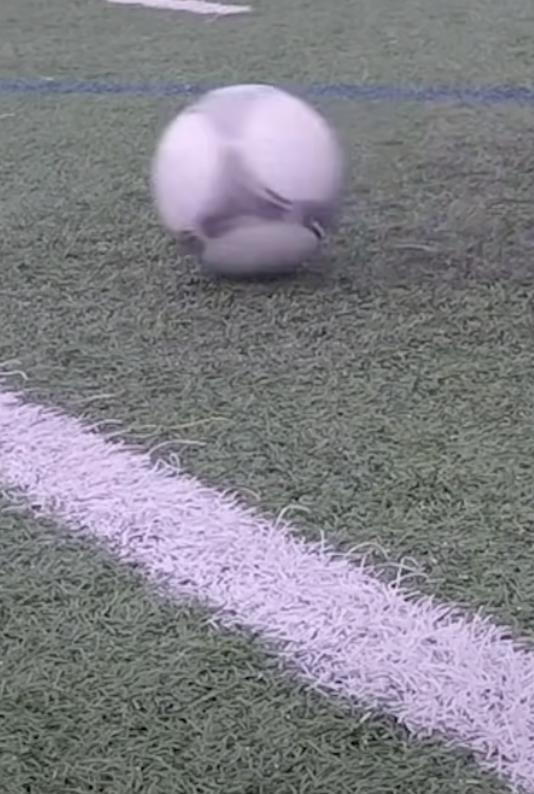ball: (152, 83, 346, 283)
